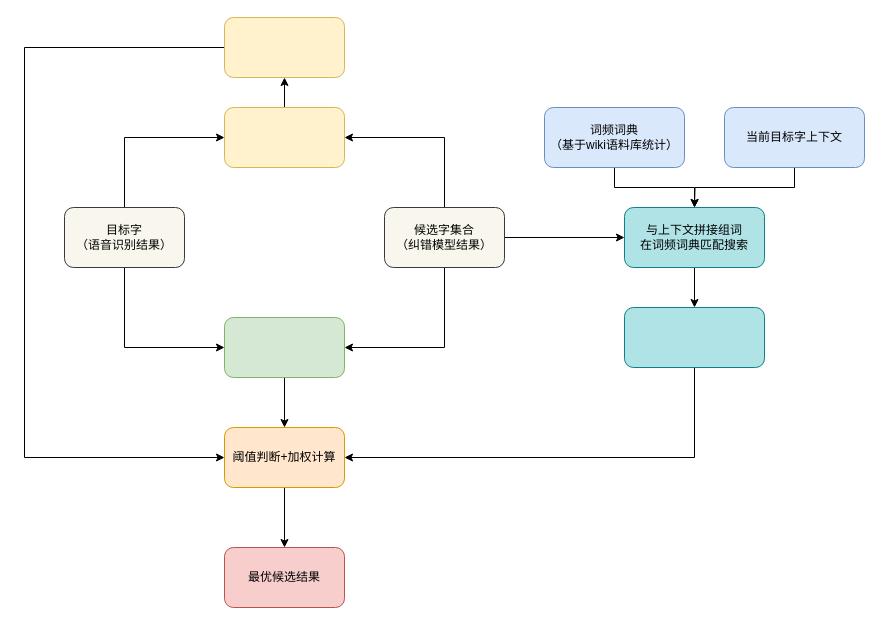
Image size: 882x625. Some labels were removed from this diagram. Each missing label, with the centre of its shape:
将匹配成功的词作为 当前候选的ngram得分: the point at 694,337
获取每个字的 汉语拼音: the point at 284,137
计算拼音的编辑距离: the point at 284,47
计算混淆音 cos距离: the point at 284,347
